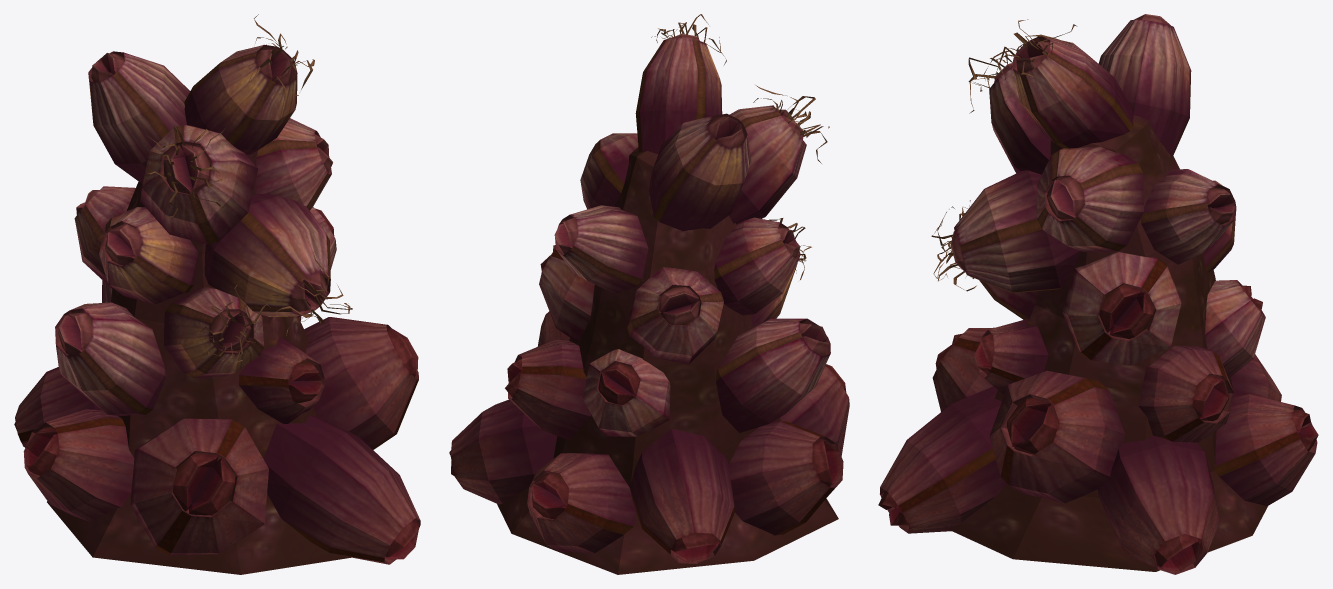
File: Burnacle.fbx
3 views of the same model, side by side, from view 1: azimuth 30°, elevation 25°; view 2: azimuth 150°, elevation 25°; view 3: azimuth 270°, elevation 25° (orthographic). The views are drawn at different scales.
Visible parts, largest first — view 1: Details, Body; view 2: Details, Body; view 3: Details, Body.
Boxes of the visible parts, x1=… form: Details: x1=15, y1=45, x2=420, y2=564; Body: x1=14, y1=14, x2=420, y2=574; Details: x1=450, y1=38, x2=849, y2=556; Body: x1=449, y1=14, x2=846, y2=574; Details: x1=880, y1=19, x2=1315, y2=568; Body: x1=878, y1=14, x2=1318, y2=574.
Size of the model in its own units: 1185 by 1483 by 1219.
Materials: 2 (2 with a texture image).
